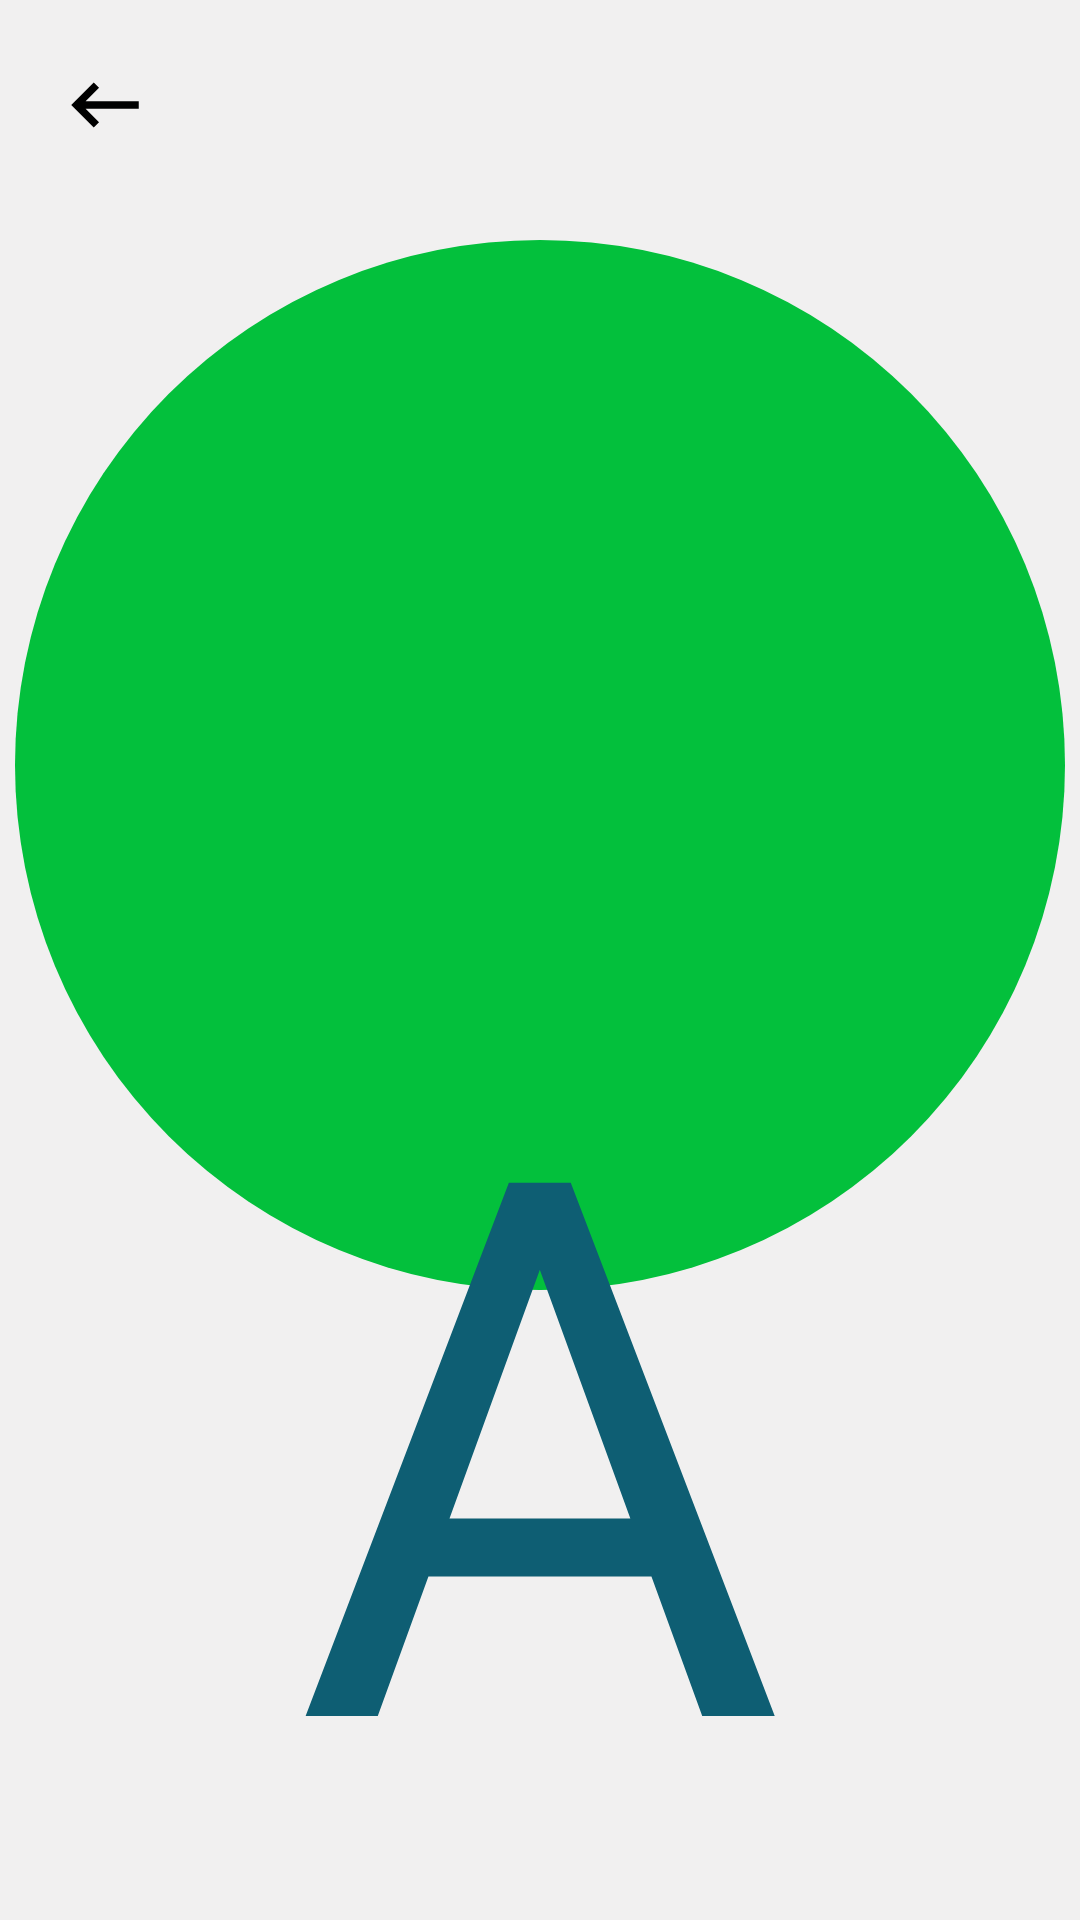

Locate icon controls on the screen. Image size 1080 x 1920, boxes as (x1, y1, x2, y2).
back button: (71, 82, 139, 128)
